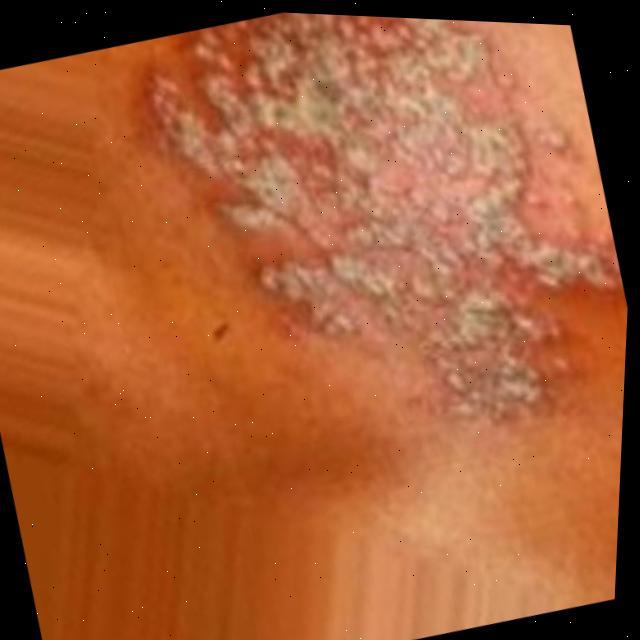Shingles: (109, 6, 640, 498)
